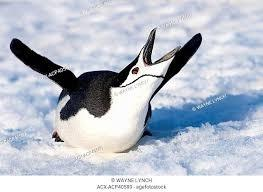chinstrap: (4, 26, 210, 155)
